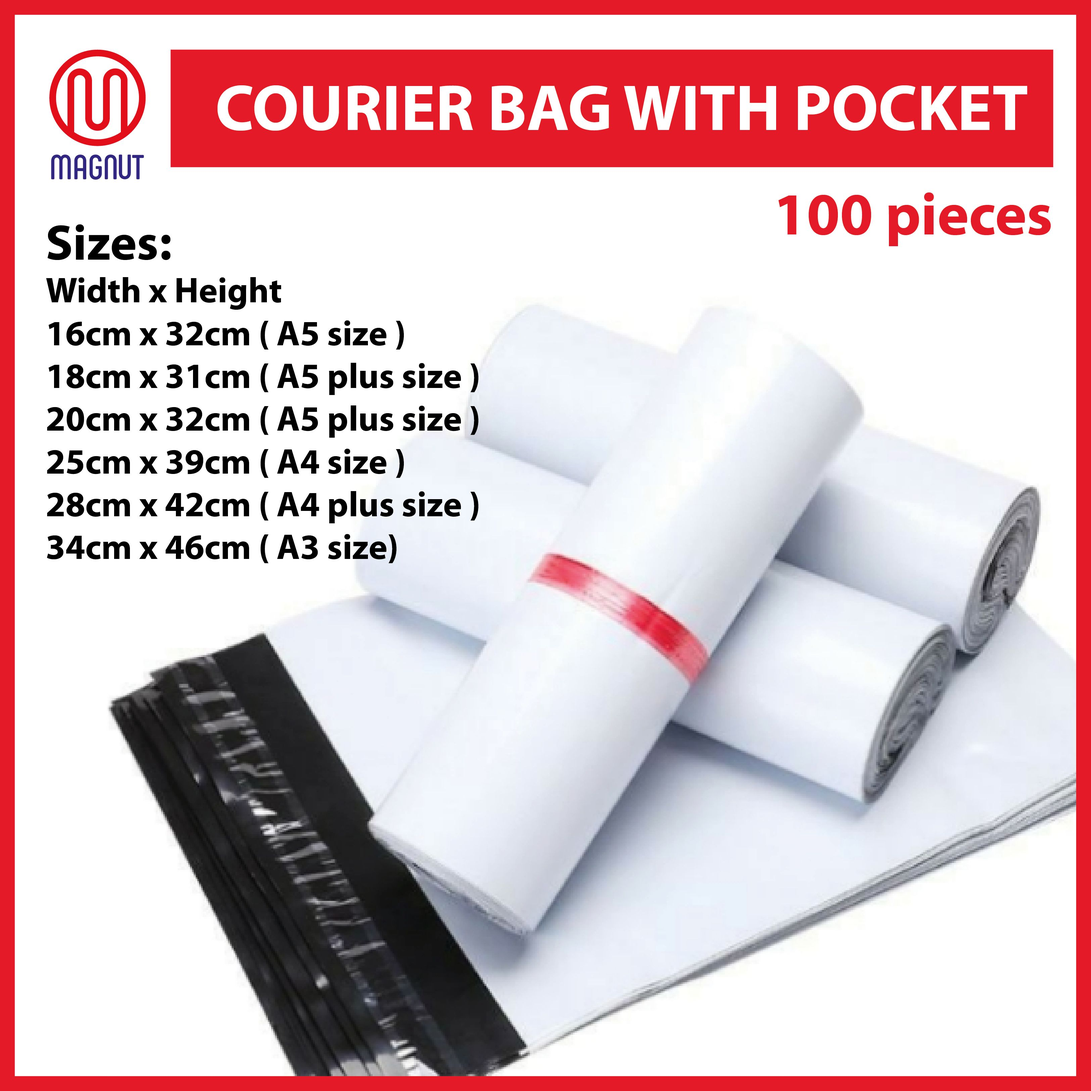Parcel: (113, 313, 1072, 1074)
